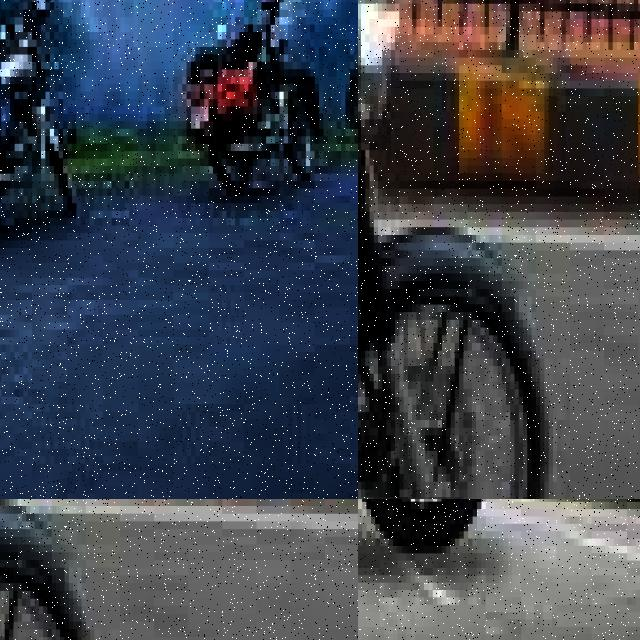bike: (358, 0, 553, 499), (182, 25, 328, 203), (0, 2, 89, 247), (0, 499, 103, 640), (358, 499, 503, 575)
